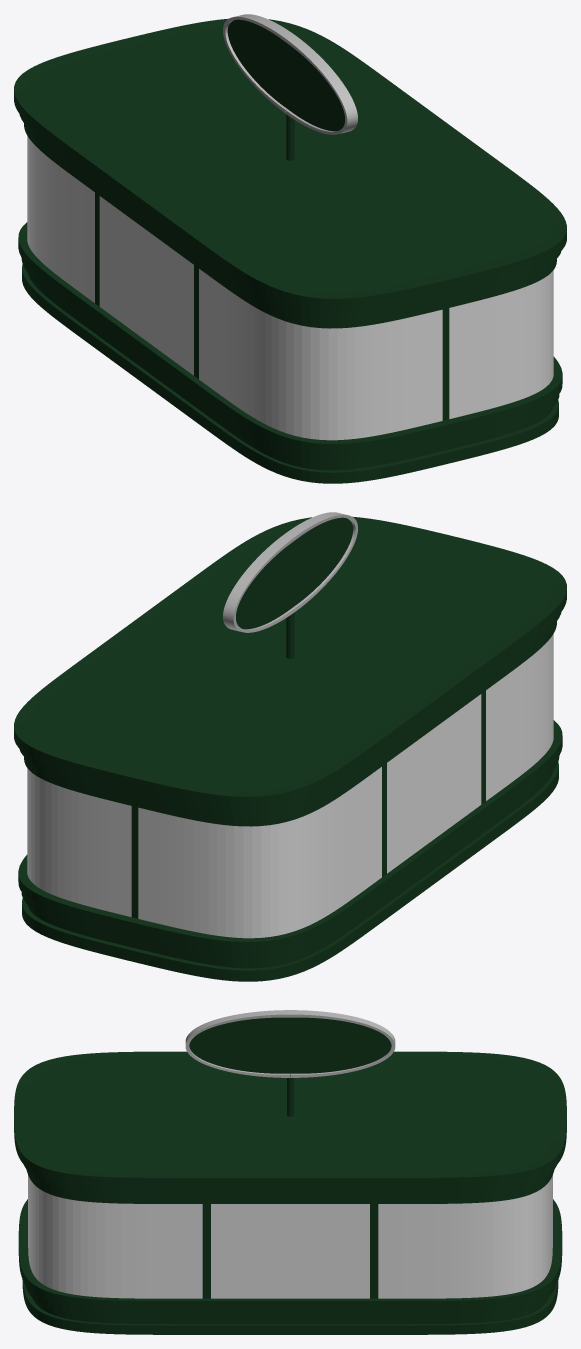
File: hoper7.fbx
The picture shows the model from 3 angles, top to bottom: view 1: azimuth 30°, elevation 25°; view 2: azimuth 150°, elevation 25°; view 3: azimuth 270°, elevation 25°; orthographic projection. The views are drawn at different scales.
Visible parts, largest first — view 1: Cylinder, okna, owal owal; view 2: Cylinder, okna, owal owal; view 3: Cylinder, okna, owal owal.
Boxes of the visible parts, x1,y1,x2,y2 form: Cylinder: (14, 18, 566, 483); okna: (27, 136, 553, 440); owal owal: (223, 14, 357, 134); Cylinder: (14, 516, 566, 981); okna: (27, 634, 553, 938); owal owal: (223, 512, 357, 632); Cylinder: (14, 1017, 566, 1334); okna: (28, 1175, 552, 1298); owal owal: (185, 1010, 395, 1077).
Size of the model in its own units: 855 by 826 by 1580.
